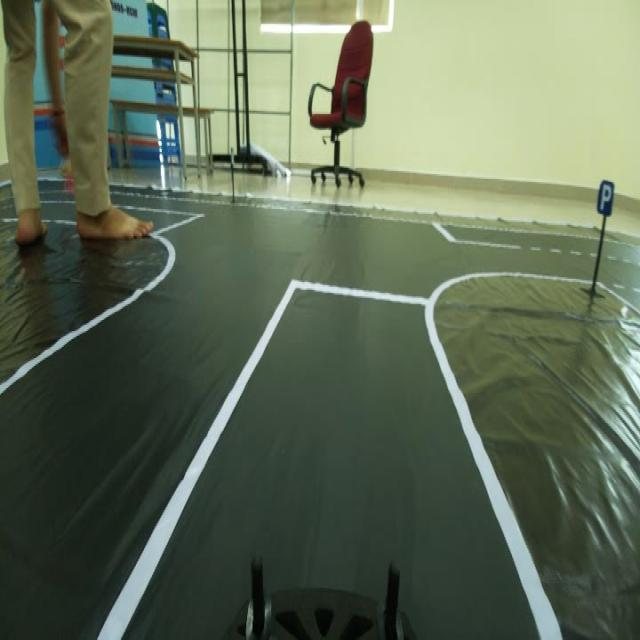parking: (599, 162, 619, 224)
